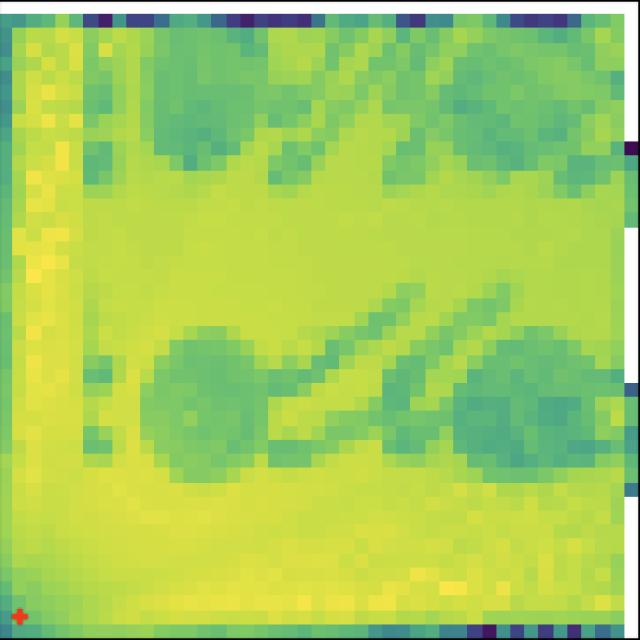Concrete: (467, 327, 600, 488)
Glass: (456, 42, 573, 175)
Metal: (133, 322, 270, 487)
Wood: (144, 34, 262, 175)
